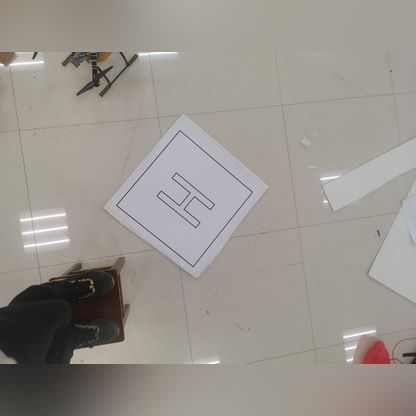H: (151, 162, 216, 235)
